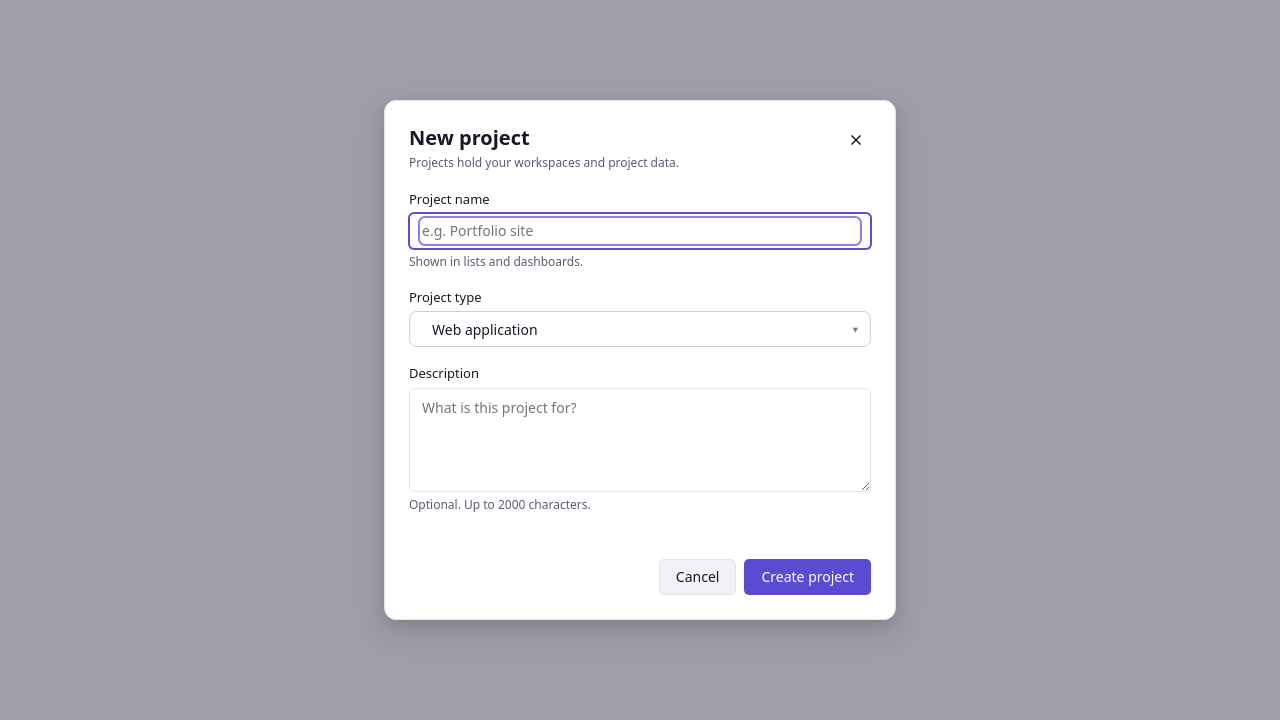
Test case: CreateProjectDialog › blocks submission with a field-level error when the name is empty
The image size is (1280, 720).
What coordinates should you click on to do the following:
click the button "Create project"
I would click on:
 (808, 577)
Its box is [744,559,871,595].
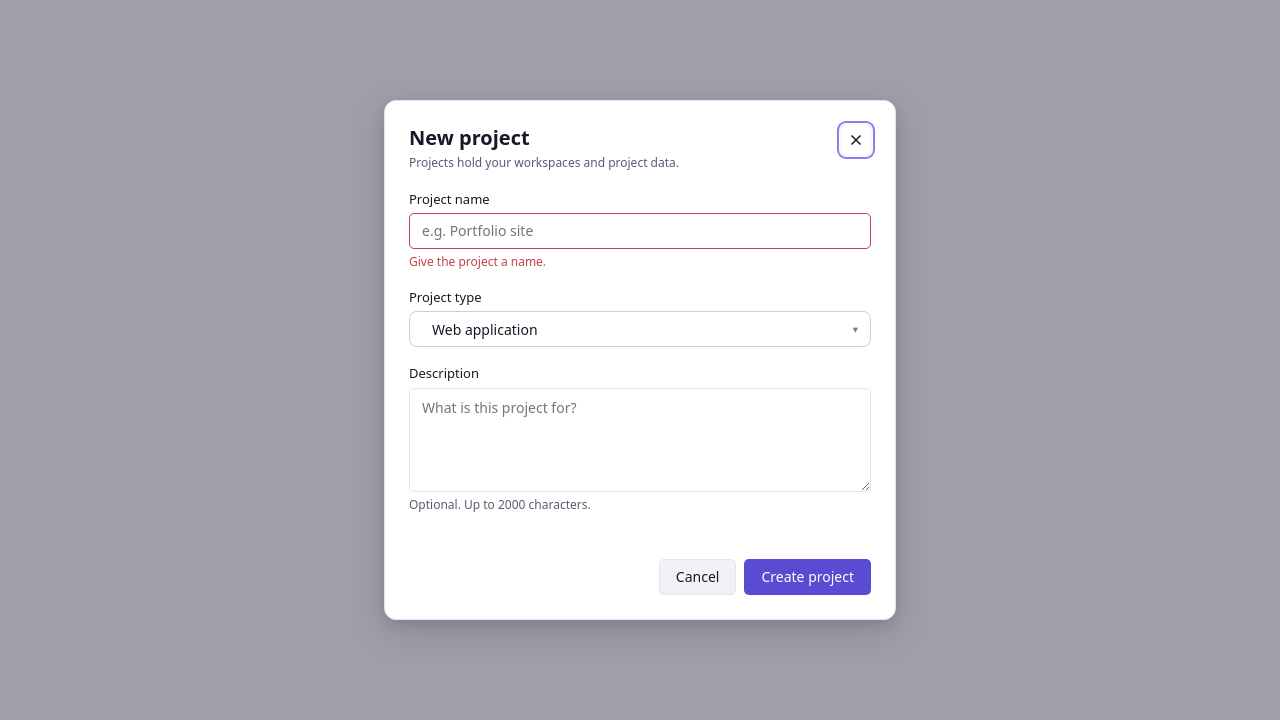
Expected: the text "Give the project a name." is shown, [409,253,546,270]
